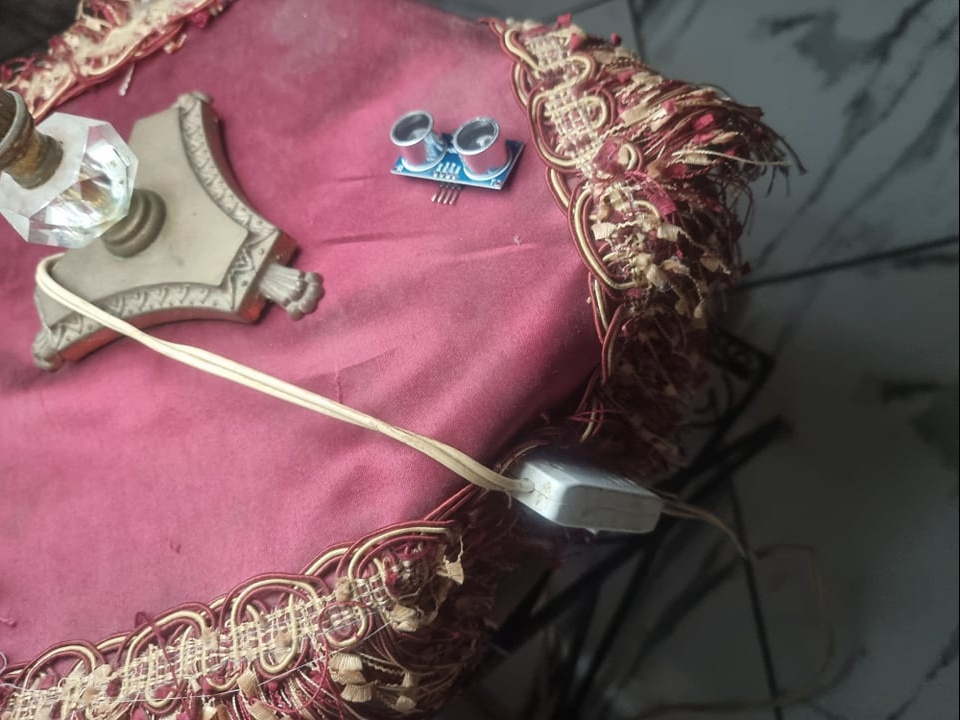SENSOR: (388, 112, 532, 189)
